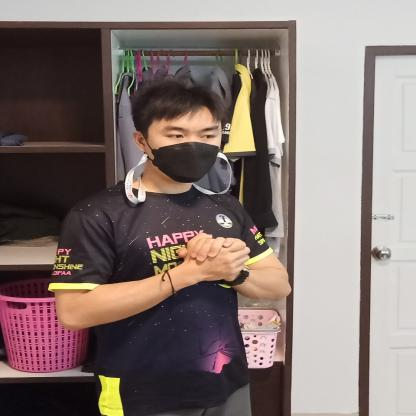Grieve: (107, 224, 314, 301)
